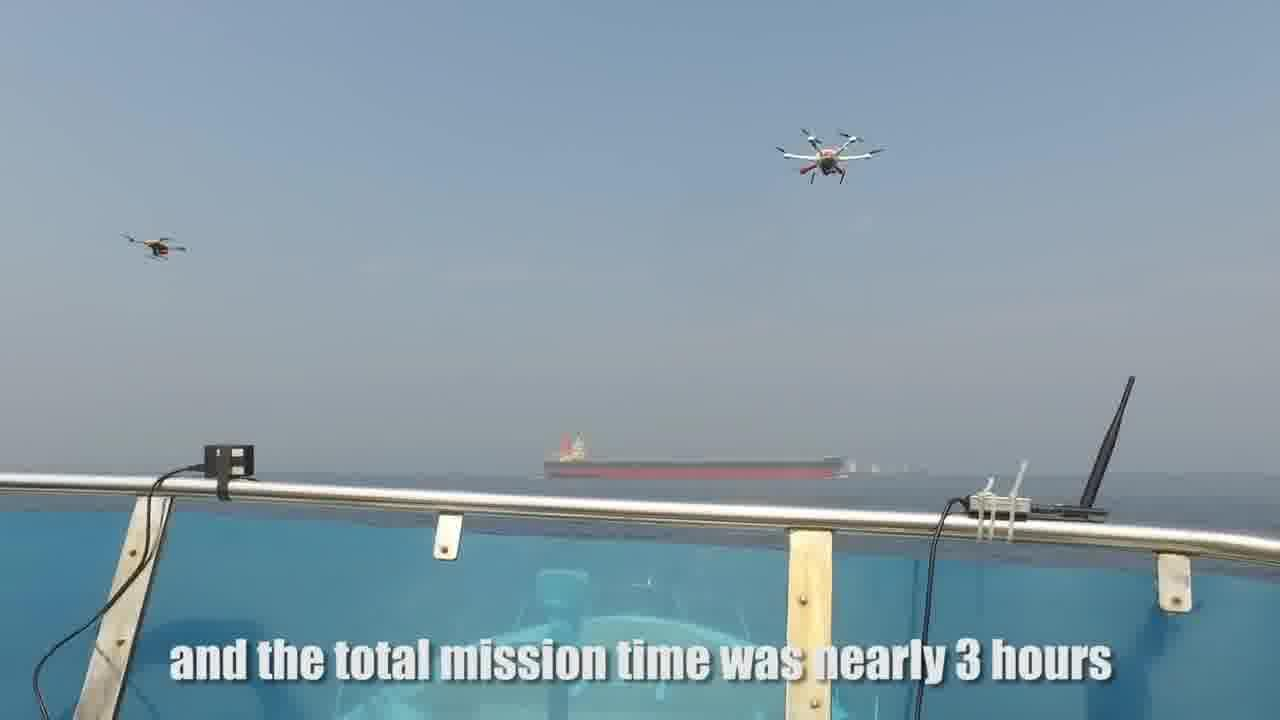drone: (754, 106, 895, 206), (105, 216, 209, 268)
